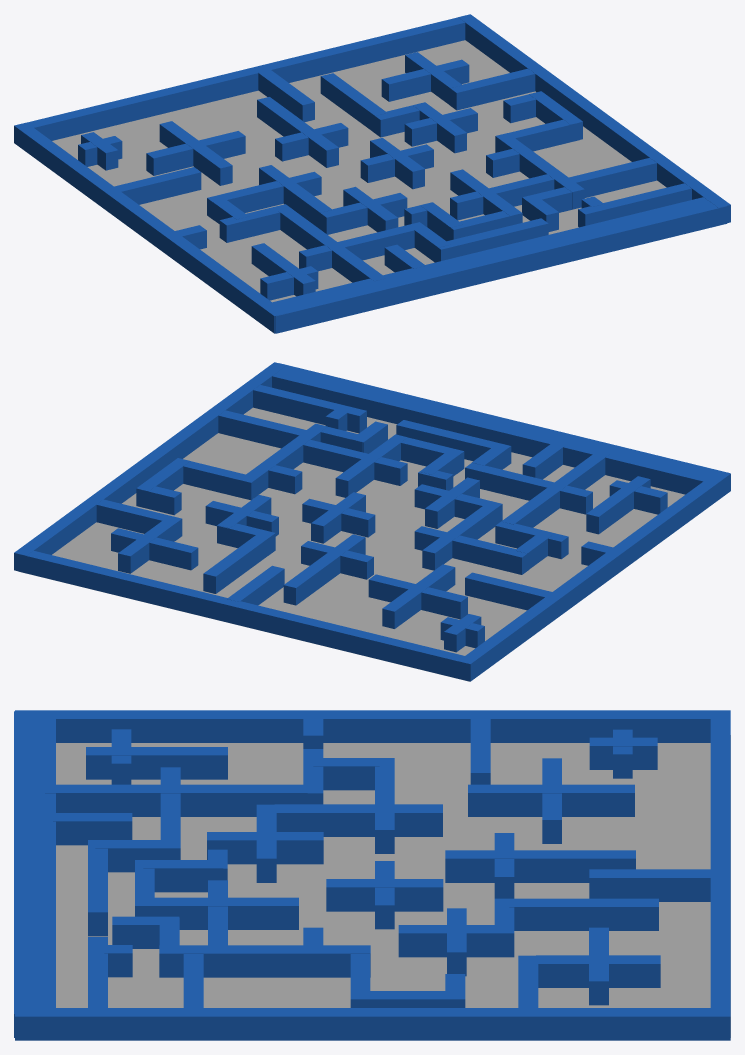
File: level4.fbx
The picture shows the model from 3 angles, top to bottom: view 1: azimuth 30°, elevation 25°; view 2: azimuth 150°, elevation 25°; view 3: azimuth 270°, elevation 25°; orthographic projection. The views are drawn at different scales.
Parts seen in each view (by area): view 1: walls, floor; view 2: walls, floor; view 3: walls, floor.
Boxes of the visible parts, x1=… form: walls: x1=14, y1=14, x2=730, y2=333; floor: x1=52, y1=40, x2=666, y2=302; walls: x1=14, y1=362, x2=730, y2=681; floor: x1=19, y1=407, x2=684, y2=681; walls: x1=14, y1=710, x2=730, y2=1040; floor: x1=56, y1=735, x2=730, y2=1037.
Bounding box in the file's own units: 50.54 × 1.87 × 50.04.
